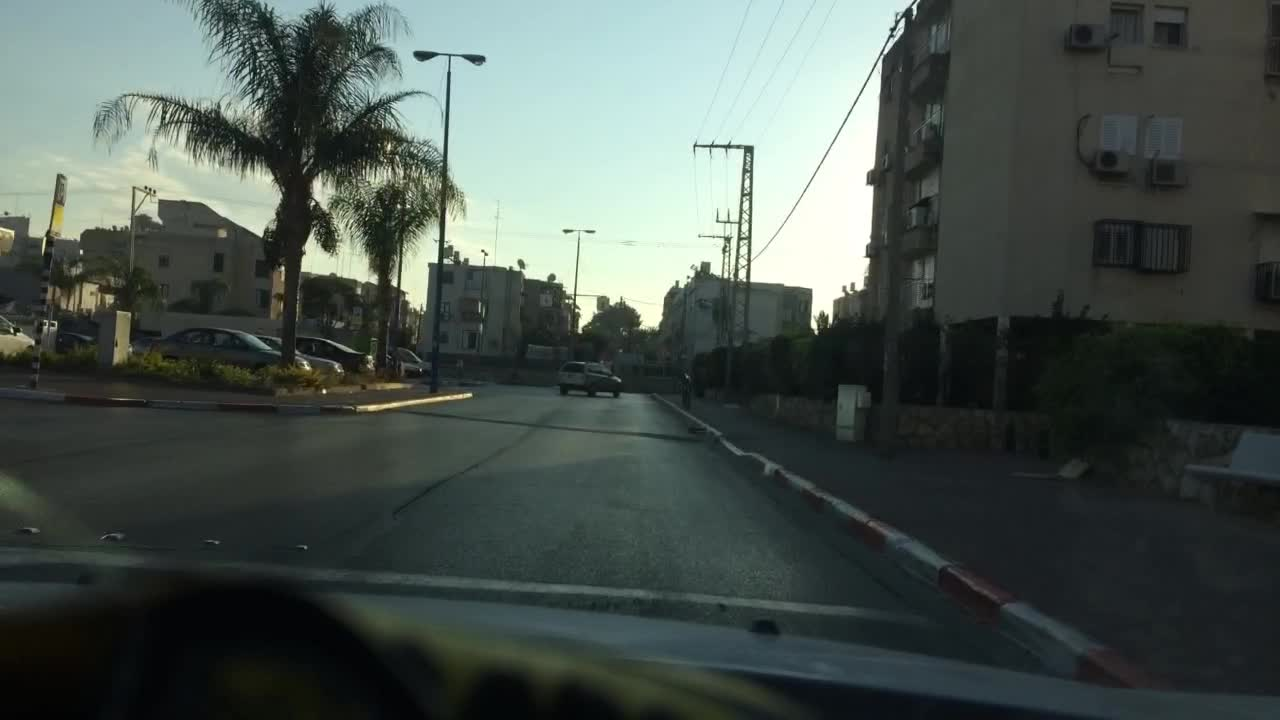car: (129, 325, 316, 384), (259, 333, 343, 378), (552, 358, 624, 399), (288, 333, 371, 368), (0, 315, 39, 358), (386, 344, 436, 376), (54, 331, 95, 349)
